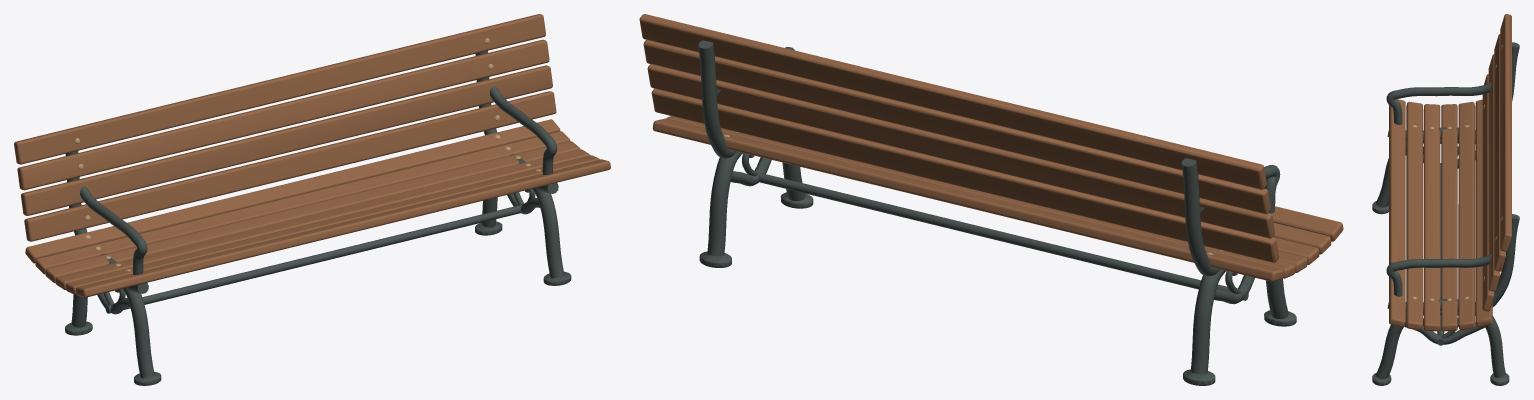
The model's file is HallSettee_LOD1.fbx.
3 views of the same model, side by side, from view 1: azimuth 30°, elevation 25°; view 2: azimuth 150°, elevation 25°; view 3: azimuth 270°, elevation 25° (orthographic). The views are drawn at different scales.
Visible parts, largest first — view 1: HallSettee_LOD1; view 2: HallSettee_LOD1; view 3: HallSettee_LOD1.
Boxes of the visible parts, <box> form: HallSettee_LOD1: <box>14,14,610,385</box>; HallSettee_LOD1: <box>639,14,1343,385</box>; HallSettee_LOD1: <box>1372,14,1519,385</box>.
Bounding box in the file's own units: 283 × 102 × 79.92.
